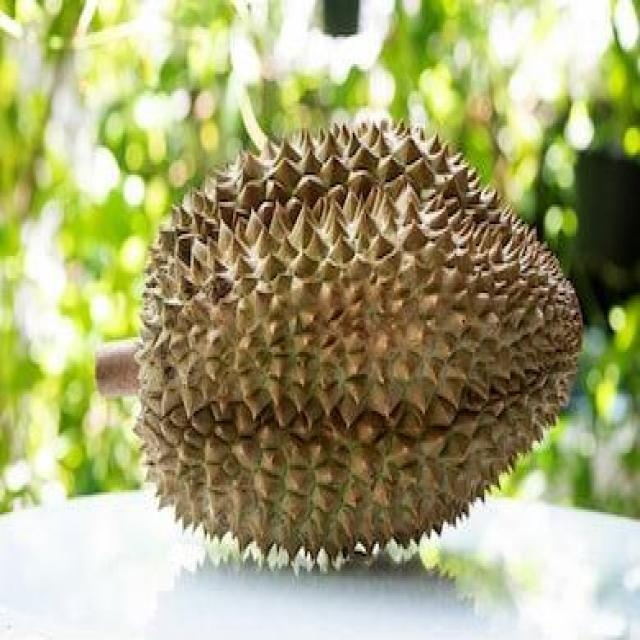mature: (139, 122, 581, 557)
